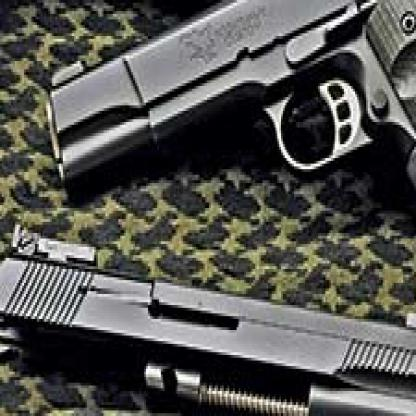gun: (46, 0, 414, 330)
